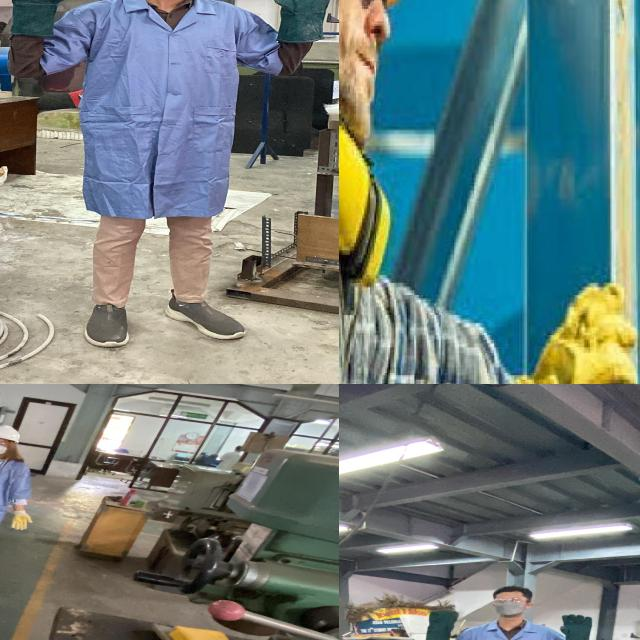face_mask: (487, 596, 529, 616), (0, 437, 9, 455)
face_nomask: (339, 0, 389, 145)
glasses: (488, 594, 530, 607), (0, 439, 10, 447)
hand_glove: (517, 283, 637, 384), (268, 0, 339, 20), (0, 0, 95, 14), (556, 614, 597, 638), (424, 606, 463, 628), (9, 512, 37, 532)
head_helmet: (0, 421, 34, 581), (0, 423, 21, 441)
head_nohelmet: (488, 585, 533, 598)
person: (0, 0, 339, 361), (413, 584, 596, 640)
shoes: (149, 292, 249, 344), (72, 292, 140, 354)
